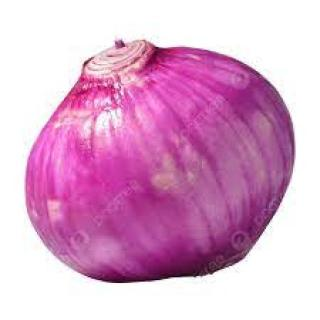Bawang Merah: (22, 35, 300, 287)
